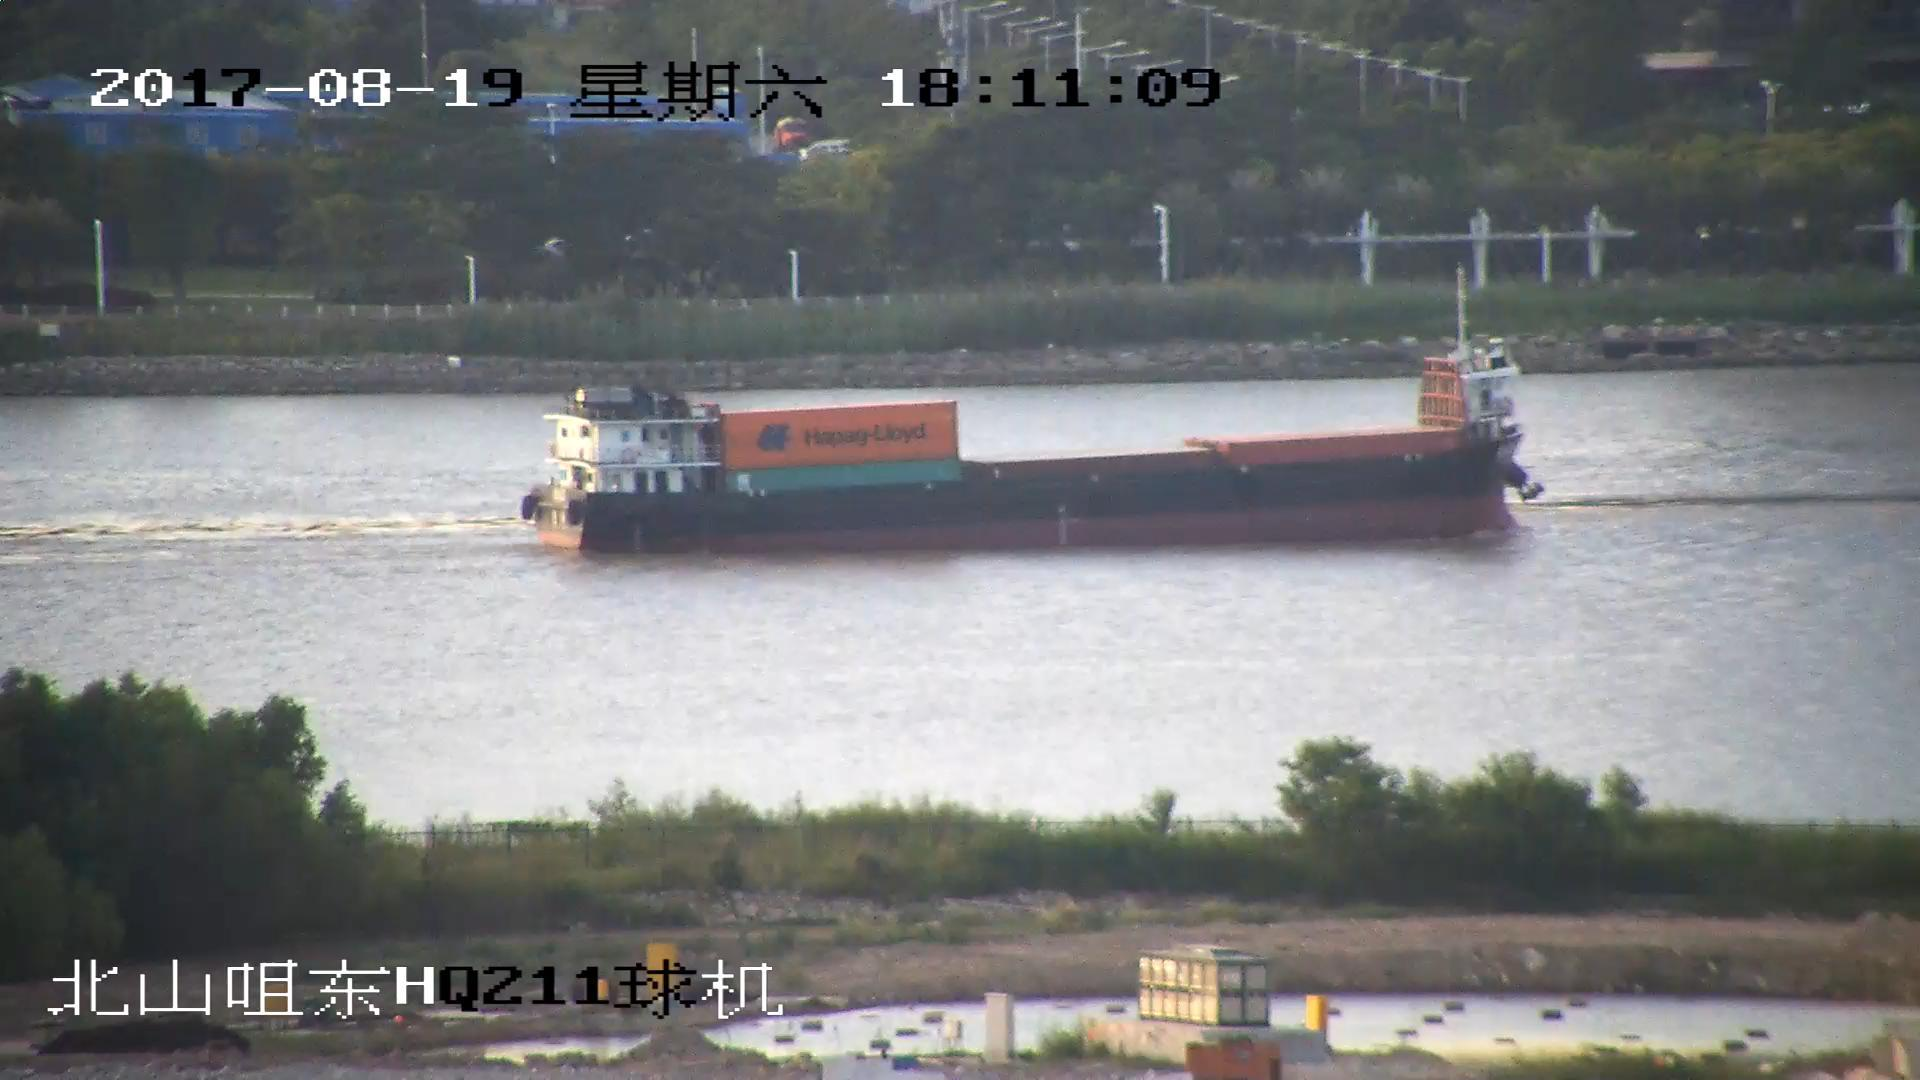Ship: (526, 306, 1545, 556)
